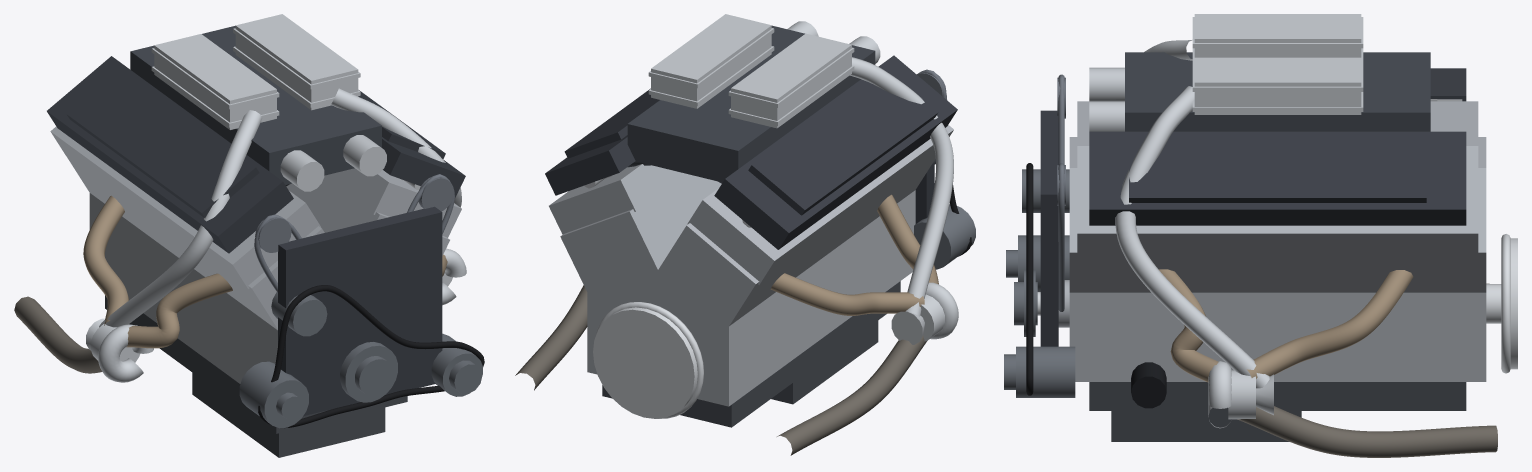
The model's file is engine.glb.
3 views of the same model, side by side, from view 1: azimuth 30°, elevation 25°; view 2: azimuth 150°, elevation 25°; view 3: azimuth 270°, elevation 25° (orthographic). The views are drawn at different scales.
Parts seen in each view (by area): view 1: Eng_FrontCover, Eng_HeadCover_L, Eng_CylinderBank_L, Eng_Block, Eng_IntakeManifold, Eng_OilPan, Eng_Intercooler_R, Eng_Intercooler_L, Eng_ExhaustManifold_L, Eng_CylinderBank_R, Eng_ChargePipe_L, Eng_Alternator (+14 smaller); view 2: Eng_HeadCover_L, Eng_Block, Eng_CylinderBank_L, Eng_CylinderBank_R, Eng_IntakeManifold, Int_Flywheel, Eng_Intercooler_L, Eng_Intercooler_R, Eng_OilPan, Eng_ExhaustManifold_L, Eng_ChargePipe_L, Eng_HeadCover_R (+5 smaller); view 3: Eng_HeadCover_R, Eng_Block, Eng_CylinderBank_R, Eng_OilPan, Eng_IntakeManifold, Eng_Intercooler_R, Eng_Intercooler_L, Eng_ChargePipe_R, Eng_Downpipe_R, Eng_ExhaustManifold_R, Eng_FrontCover, Eng_ACCompressor (+14 smaller).
Boxes of the visible parts, <box> form: Eng_FrontCover: <box>278,206,442,416</box>; Eng_HeadCover_L: <box>47,56,293,253</box>; Eng_CylinderBank_L: <box>50,126,324,330</box>; Eng_Block: <box>89,193,277,383</box>; Eng_IntakeManifold: <box>130,25,381,186</box>; Eng_OilPan: <box>105,295,407,457</box>; Eng_Intercooler_R: <box>233,14,360,110</box>; Eng_Intercooler_L: <box>151,34,279,129</box>; Eng_ExhaustManifold_L: <box>83,195,232,348</box>; Eng_CylinderBank_R: <box>286,168,461,255</box>; Eng_ChargePipe_L: <box>99,110,262,327</box>; Eng_Alternator: <box>239,361,308,428</box>; Eng_HeadCover_L: <box>714,55,957,249</box>; Eng_Block: <box>587,190,915,406</box>; Eng_CylinderBank_L: <box>646,125,953,355</box>; Eng_CylinderBank_R: <box>549,164,721,316</box>; Eng_IntakeManifold: <box>627,25,875,183</box>; Int_Flywheel: <box>593,302,703,418</box>; Eng_Intercooler_L: <box>728,33,854,128</box>; Eng_Intercooler_R: <box>648,14,774,108</box>; Eng_OilPan: <box>602,281,900,427</box>; Eng_ExhaustManifold_L: <box>770,194,938,315</box>; Eng_ChargePipe_L: <box>850,57,953,316</box>; Eng_HeadCover_R: <box>545,88,659,195</box>; Eng_HeadCover_R: <box>1089,131,1466,225</box>; Eng_Block: <box>1058,280,1486,381</box>; Eng_CylinderBank_R: <box>1069,146,1486,292</box>; Eng_OilPan: <box>1089,382,1466,441</box>; Eng_IntakeManifold: <box>1125,52,1430,131</box>; Eng_Intercooler_R: <box>1192,57,1363,114</box>; Eng_Intercooler_L: <box>1192,14,1363,60</box>; Eng_ChargePipe_R: <box>1115,86,1269,388</box>; Eng_Downpipe_R: <box>1237,406,1497,457</box>; Eng_ExhaustManifold_R: <box>1159,269,1413,382</box>; Eng_FrontCover: <box>1040,110,1058,346</box>; Eng_ACCompressor: <box>1004,346,1075,397</box>.
Size of the model in its own units: 1.17 by 1.02 by 1.29.
